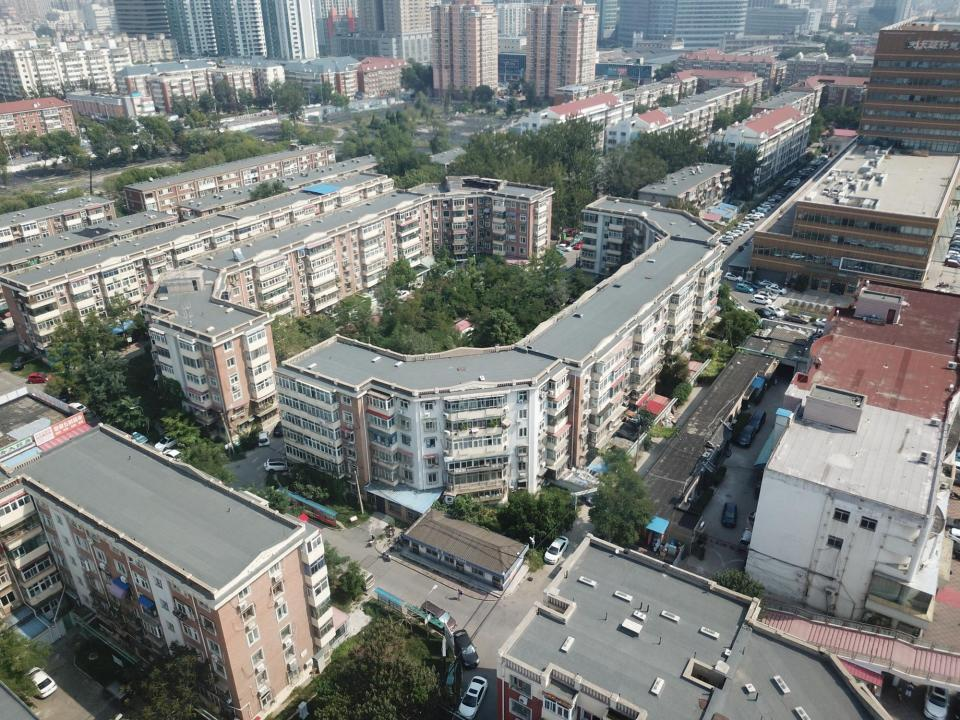car: (459, 676, 488, 719), (453, 630, 483, 668), (23, 668, 57, 699), (544, 535, 569, 564), (154, 432, 179, 450), (264, 457, 294, 472), (722, 501, 737, 527), (28, 371, 54, 384), (162, 448, 184, 463), (272, 420, 289, 436), (128, 430, 147, 444), (786, 312, 808, 324), (766, 305, 785, 318), (755, 308, 775, 320), (724, 271, 744, 283), (816, 318, 835, 330), (11, 356, 25, 371), (766, 284, 786, 294), (68, 402, 86, 413), (258, 431, 270, 447), (53, 186, 69, 198), (735, 282, 752, 293), (752, 295, 770, 305), (758, 290, 776, 300), (741, 280, 759, 290), (555, 243, 572, 252), (575, 239, 588, 250), (715, 240, 734, 247), (395, 290, 409, 299), (549, 250, 566, 257), (758, 281, 775, 288), (440, 270, 453, 279), (726, 230, 744, 236), (750, 212, 766, 218), (740, 221, 755, 227), (721, 237, 735, 243), (724, 232, 738, 238), (746, 215, 760, 221), (738, 225, 750, 231), (758, 206, 770, 212), (769, 195, 780, 201), (774, 194, 785, 200), (775, 191, 786, 197), (760, 202, 770, 208), (788, 178, 800, 183), (796, 174, 806, 180), (734, 228, 744, 233), (789, 181, 799, 186), (784, 183, 796, 187), (810, 162, 818, 168), (783, 187, 792, 192), (819, 157, 828, 162), (798, 172, 809, 176), (801, 170, 811, 174), (812, 160, 820, 165), (820, 154, 828, 159), (779, 189, 788, 193), (814, 160, 823, 164), (808, 166, 816, 169), (806, 168, 813, 171)
van: (420, 599, 458, 633), (346, 564, 374, 591), (736, 426, 756, 446), (739, 527, 756, 549), (750, 409, 764, 430), (415, 280, 427, 290), (766, 199, 774, 204)
